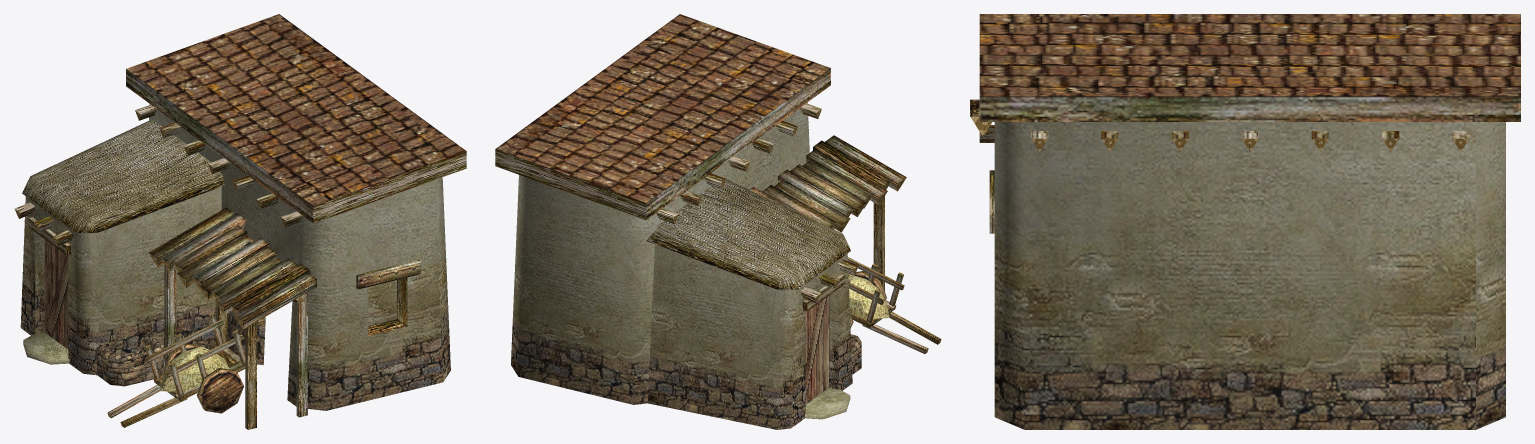
Rendered from iber_farmstead_b.dae.
3 renders of one model, left to right at view 1: azimuth 30°, elevation 25°; view 2: azimuth 150°, elevation 25°; view 3: azimuth 270°, elevation 25°, orthographic. The views are drawn at different scales.
Parts seen in each view (by area): view 1: Cube; view 2: Cube; view 3: Cube.
Part boxes in pixels (x1=…): Cube: x1=14, y1=14, x2=466, y2=429; Cube: x1=495, y1=14, x2=941, y2=429; Cube: x1=970, y1=14, x2=1520, y2=429.
Bounding box in the file's own units: 10.78 × 7.67 × 11.46.
